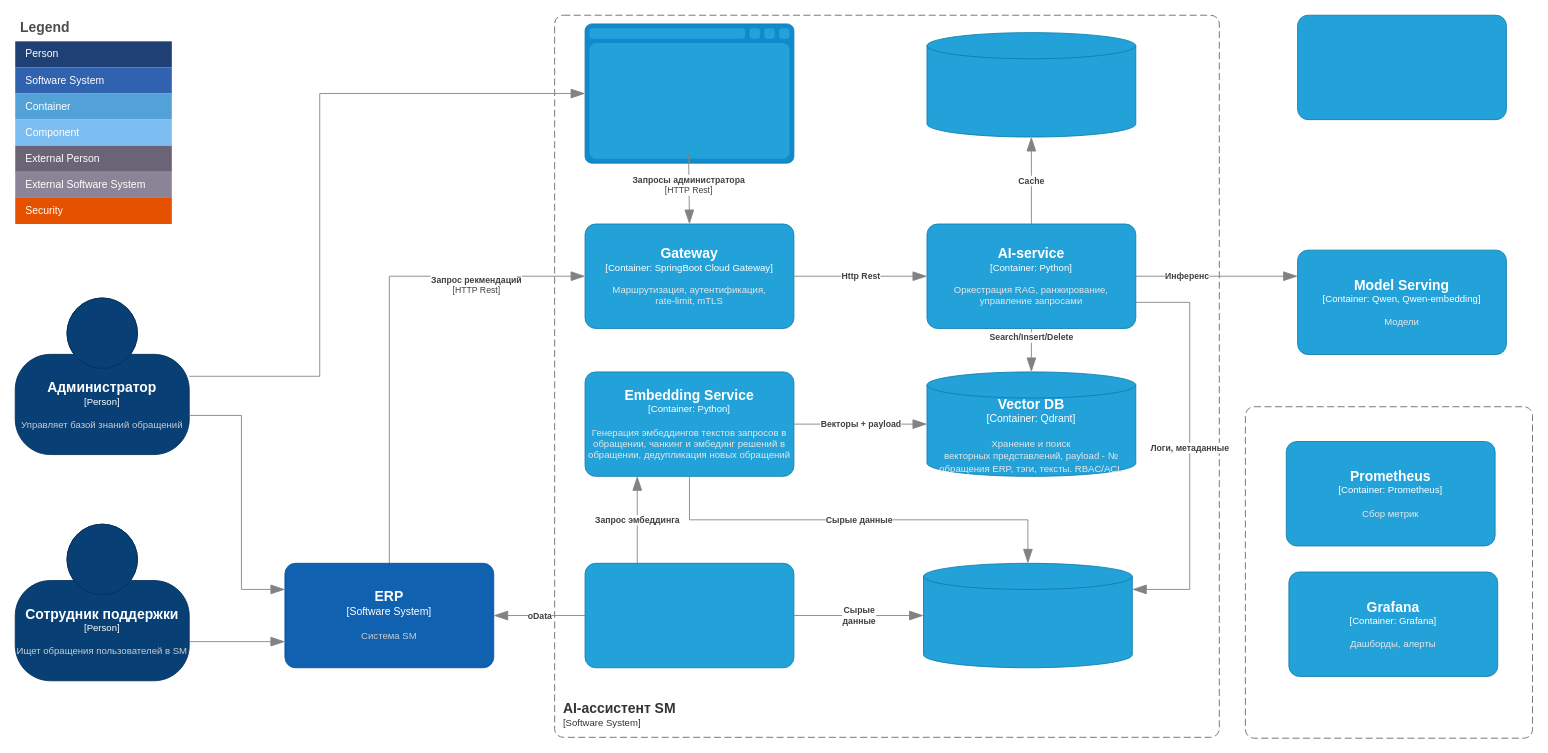
Image size: 1548x753. Some labels were removed from this diagram. The box of each missing label's shape, as (x1, y1, x2, y2) in pixels:
Cache [Container: Redis] Кэш результатов поиска: (926, 32, 1136, 137)
ETL Worker [Container: Python] ETL Сервис загрузки данных по расписанию: (584, 562, 794, 668)
Frontend/Admin [Container: Spring Boot + Thymeleaf] Панель администрирования: (584, 23, 794, 163)
Observability [Software System]: (1245, 406, 1533, 738)
Secrets [Container: HashiCorp Vault] Секреты (JIT, TTL 5мин): (1297, 14, 1506, 120)
SQL DB [Container: PostgreSQL] Сырые тексты обращений, метаданные: (923, 562, 1132, 668)
